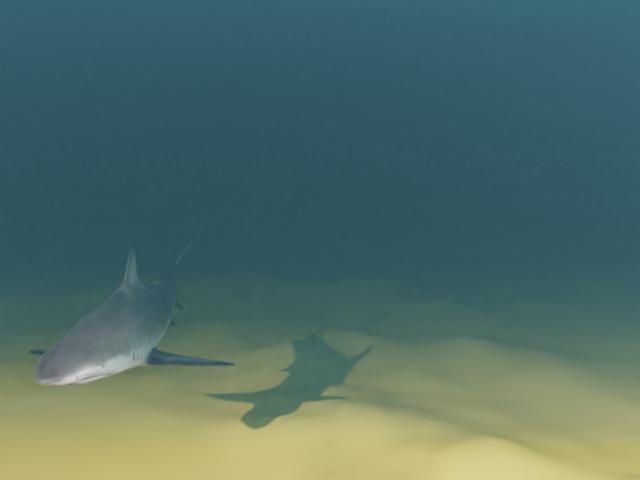Carribean Shark.001: (28, 222, 236, 386)
